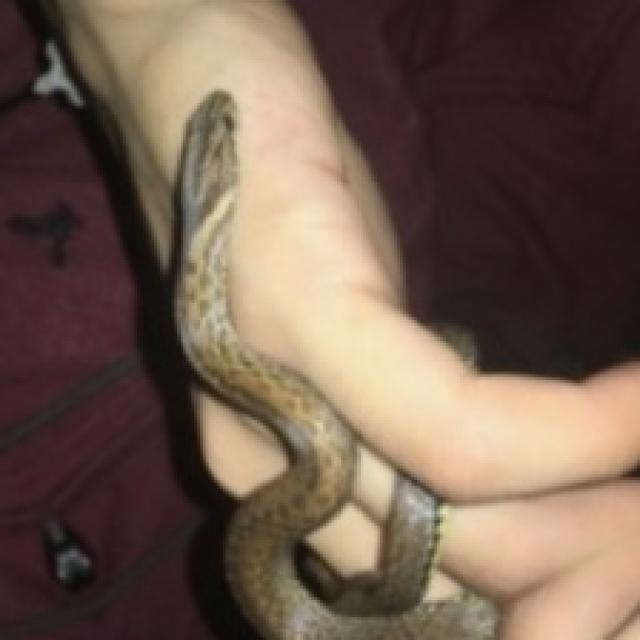reinhardts lined snake: (171, 91, 494, 637)
